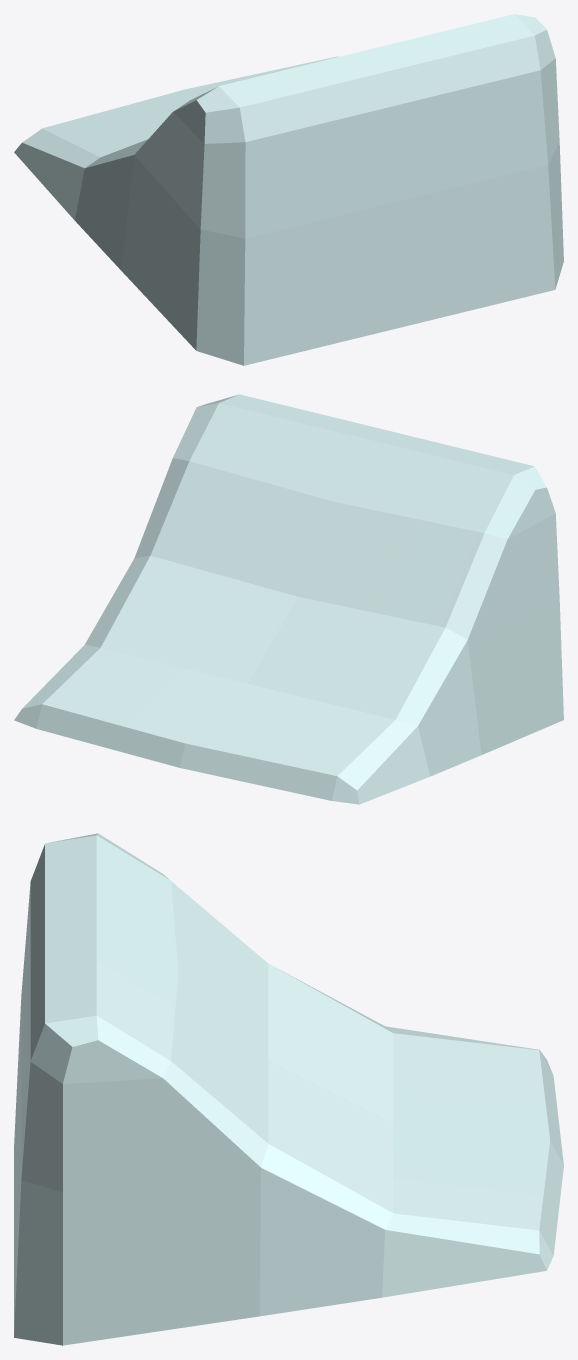
Rendered from snow-jump.glb.
3 views of the same model, one above another, from view 1: azimuth 30°, elevation 25°; view 2: azimuth 150°, elevation 25°; view 3: azimuth 270°, elevation 25° (orthographic). The views are drawn at different scales.
Visible parts, largest first — view 1: snow-jump; view 2: snow-jump; view 3: snow-jump.
Part boxes in pixels (left/top/right/bottom): snow-jump: left=14, top=14, right=563, bottom=365; snow-jump: left=14, top=394, right=563, bottom=804; snow-jump: left=14, top=833, right=563, bottom=1345.
Size of the model in its own units: 3.14 by 2.07 by 3.25.
1 material, 1 textured.
